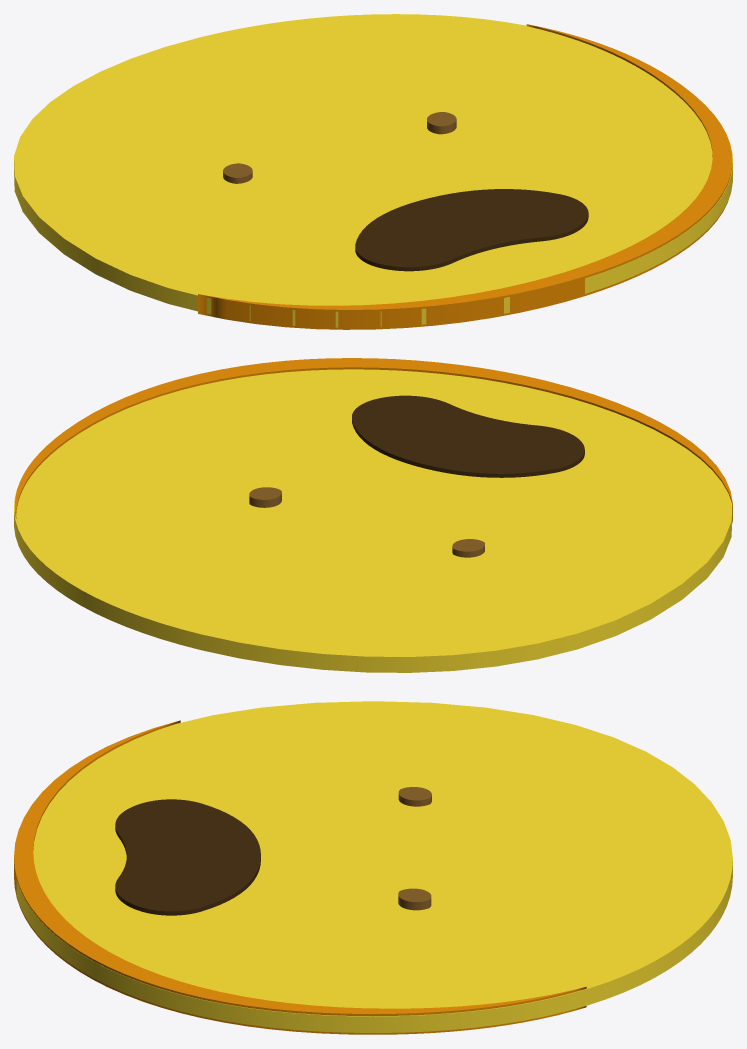
File: emoji_u1f627.glb
The picture shows the model from 3 angles, top to bottom: view 1: azimuth 30°, elevation 25°; view 2: azimuth 150°, elevation 25°; view 3: azimuth 270°, elevation 25°; orthographic projection. The views are drawn at different scales.
Visible parts, largest first — view 1: emoji_u1f627; view 2: emoji_u1f627; view 3: emoji_u1f627.
Part boxes in pixels (box(x1,y1,x2,y2)): emoji_u1f627: box(14, 14, 732, 329); emoji_u1f627: box(14, 358, 732, 672); emoji_u1f627: box(14, 701, 732, 1034).
Bounding box in the file's own units: 0.0326 × 0.0016 × 0.0315.
